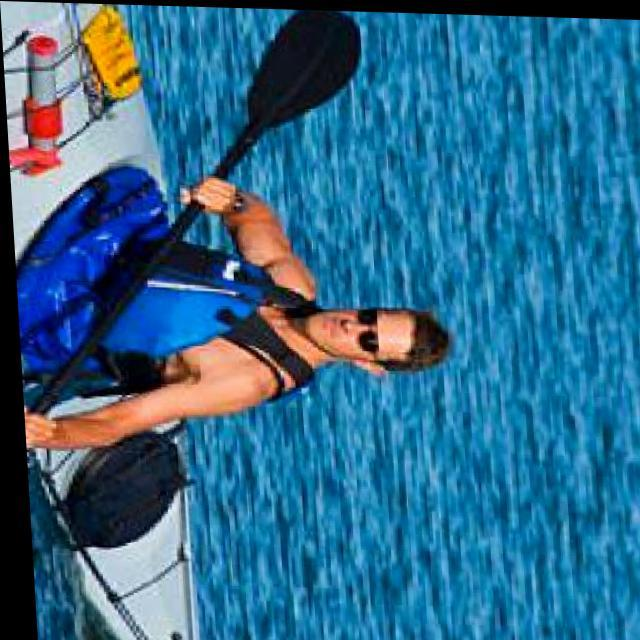kayak: (0, 0, 247, 415), (21, 420, 189, 640), (224, 7, 362, 164)
